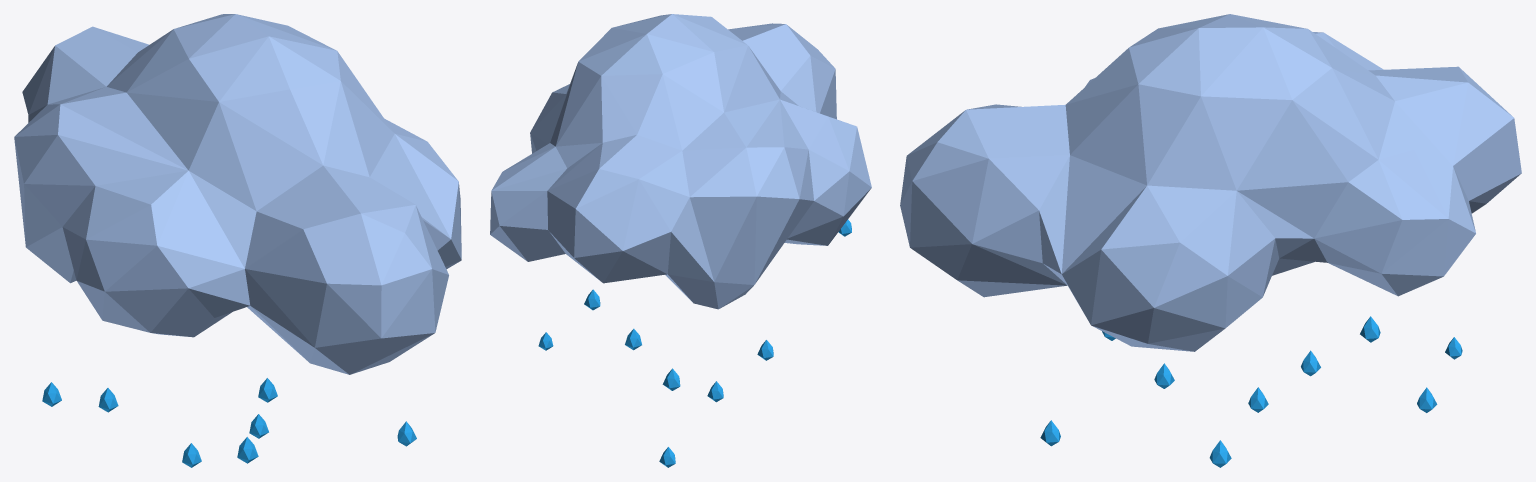
The picture shows the model from 3 angles, left to right: view 1: azimuth 30°, elevation 25°; view 2: azimuth 150°, elevation 25°; view 3: azimuth 270°, elevation 25°; orthographic projection. The views are drawn at different scales.
Parts seen in each view (by area): view 1: Cloud.002; view 2: Cloud.002; view 3: Cloud.002.
Boxes of the visible parts, box(x1,y1,x2,y2) form: Cloud.002: box(14, 14, 461, 374); Cloud.002: box(490, 14, 871, 309); Cloud.002: box(900, 14, 1521, 351).
Bounding box in the file's own units: 3.65 × 4.09 × 5.17.
